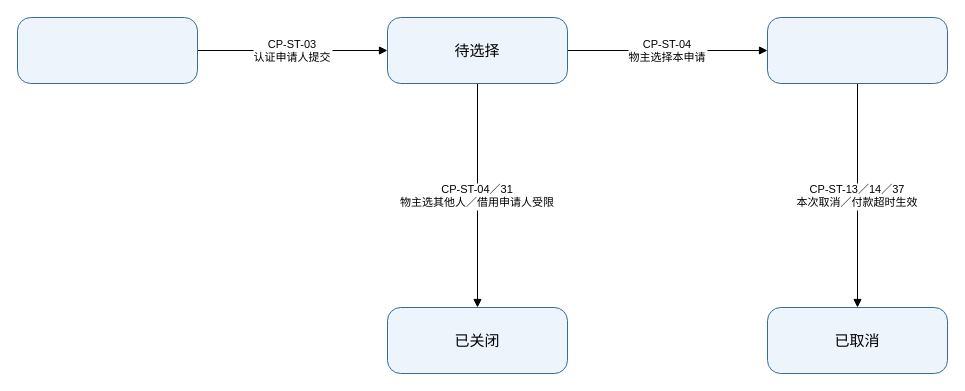
The diagram is 965 pixels wide and 391 high, and some of its shapes have lost their labels. The shapes that lost their labels are listed below. From the top down, each one's box as (x1, y1, x2, y2) in pixels, then its label:
(16, 16, 198, 84): 无申请
(766, 16, 948, 84): 已选中
